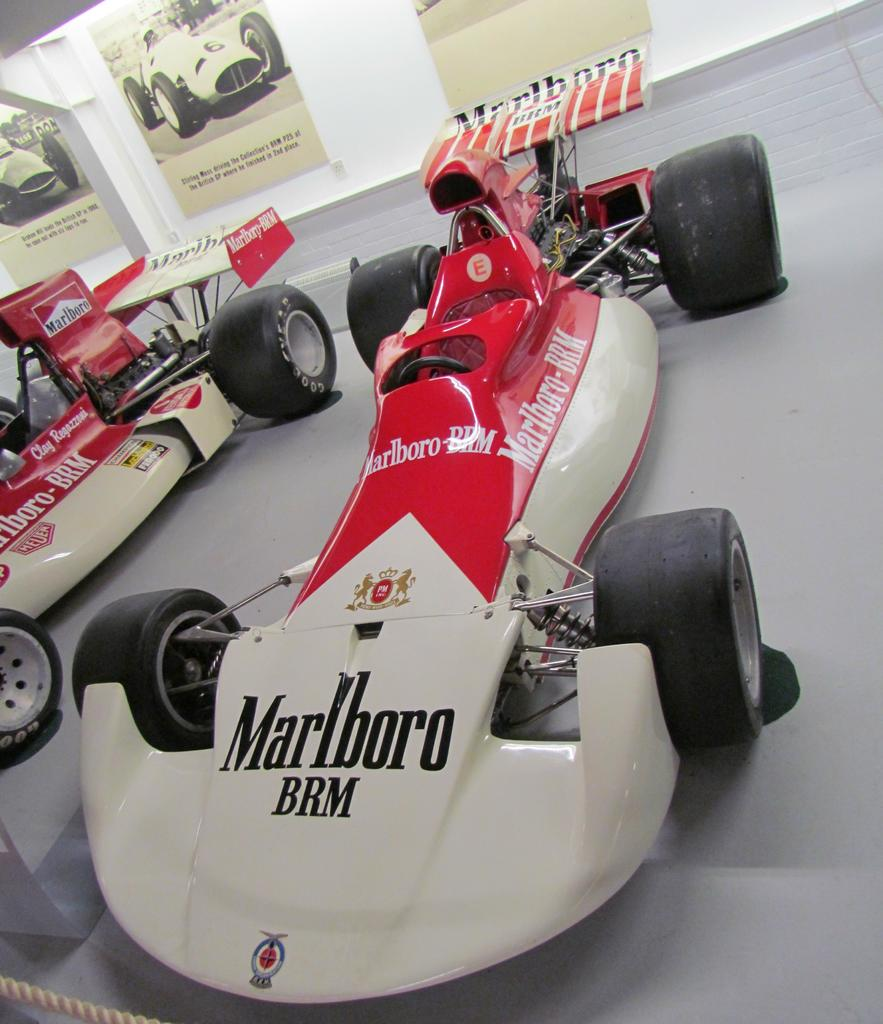Wheel: (595, 508, 763, 749), (73, 589, 240, 753), (667, 140, 784, 308), (210, 282, 336, 420), (348, 242, 438, 371), (0, 604, 62, 748), (243, 11, 284, 79), (153, 72, 192, 135), (399, 357, 471, 388), (42, 132, 80, 188), (126, 76, 156, 127), (0, 395, 21, 434)
